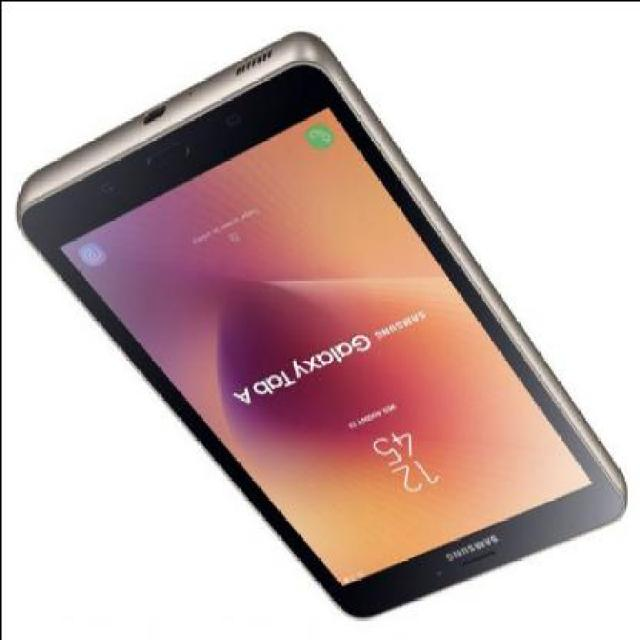smart phone: (22, 17, 628, 621)
